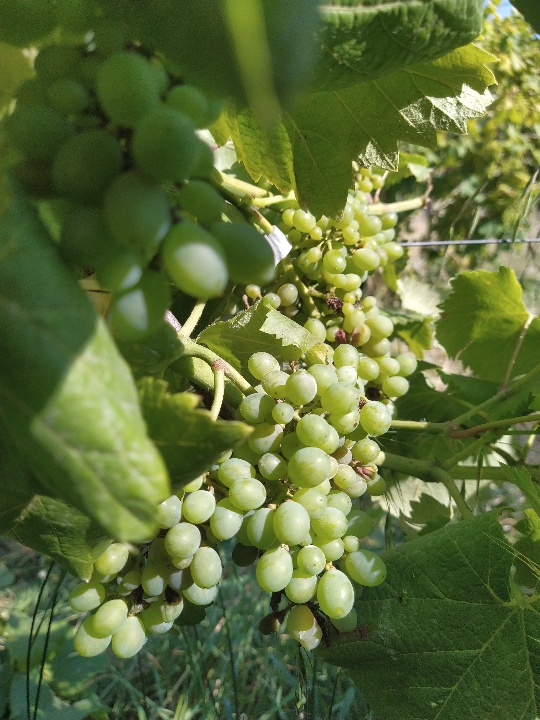grape: (63, 340, 423, 662)
